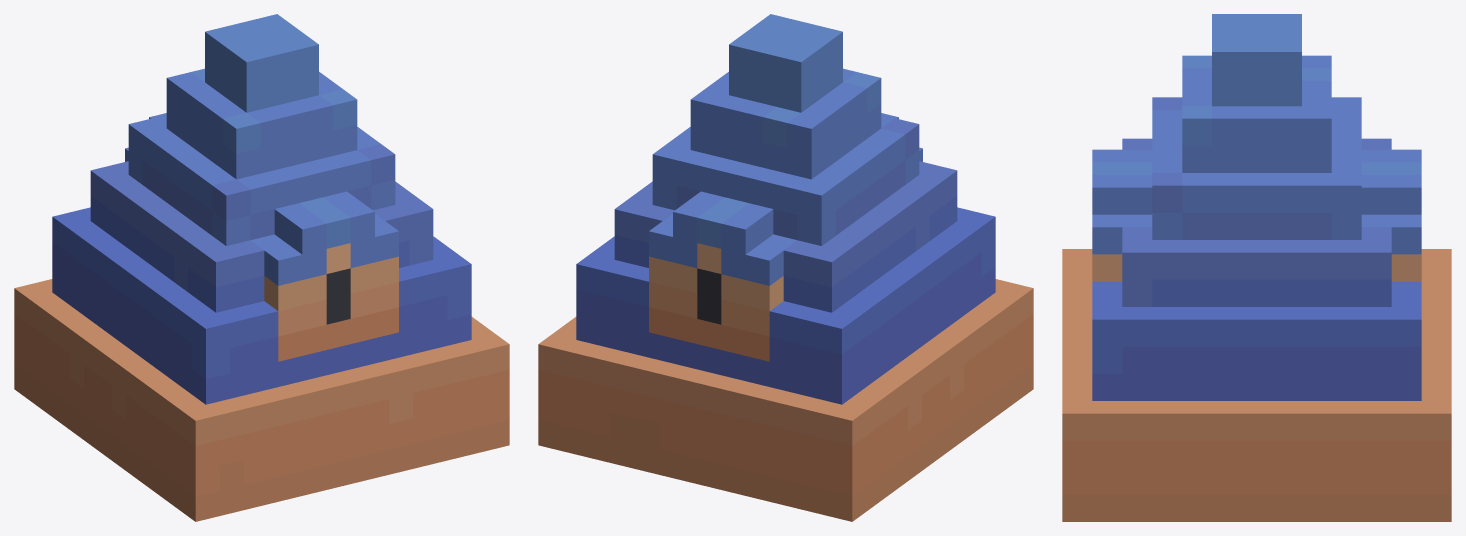
File: tower-square-top-roof-high-windows.glb
3 views of the same model, side by side, from view 1: azimuth 30°, elevation 25°; view 2: azimuth 150°, elevation 25°; view 3: azimuth 270°, elevation 25° (orthographic). The views are drawn at different scales.
Parts seen in each view (by area): view 1: tower-square-top-roof-high-windows; view 2: tower-square-top-roof-high-windows; view 3: tower-square-top-roof-high-windows.
Boxes of the visible parts, <box> form: tower-square-top-roof-high-windows: <box>14,14,509,521</box>; tower-square-top-roof-high-windows: <box>538,14,1033,521</box>; tower-square-top-roof-high-windows: <box>1062,14,1451,521</box>.
Bounding box in the file's own units: 1 × 1.16 × 1.
Materials: 1 (1 with a texture image).
